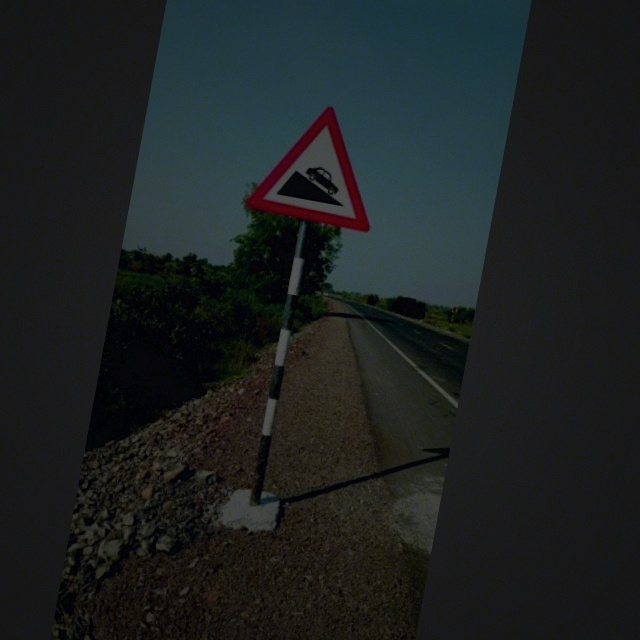Steep_Descent: (247, 95, 384, 230)
